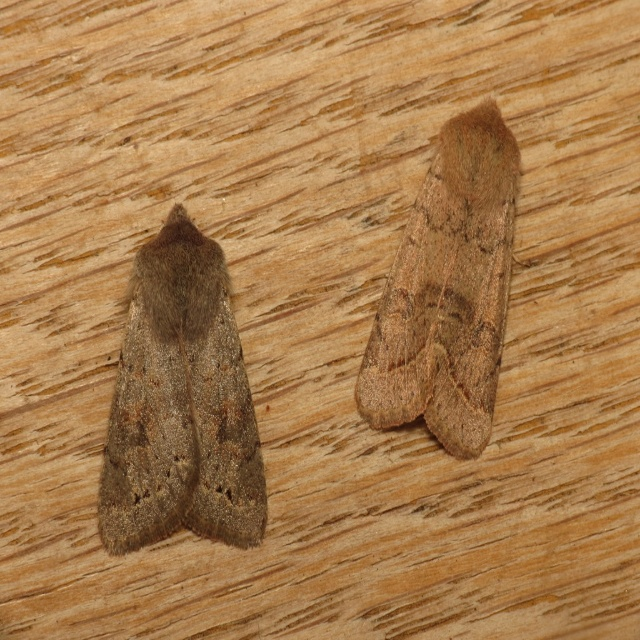Moths and butterflies: (352, 92, 535, 460), (98, 202, 270, 553)
